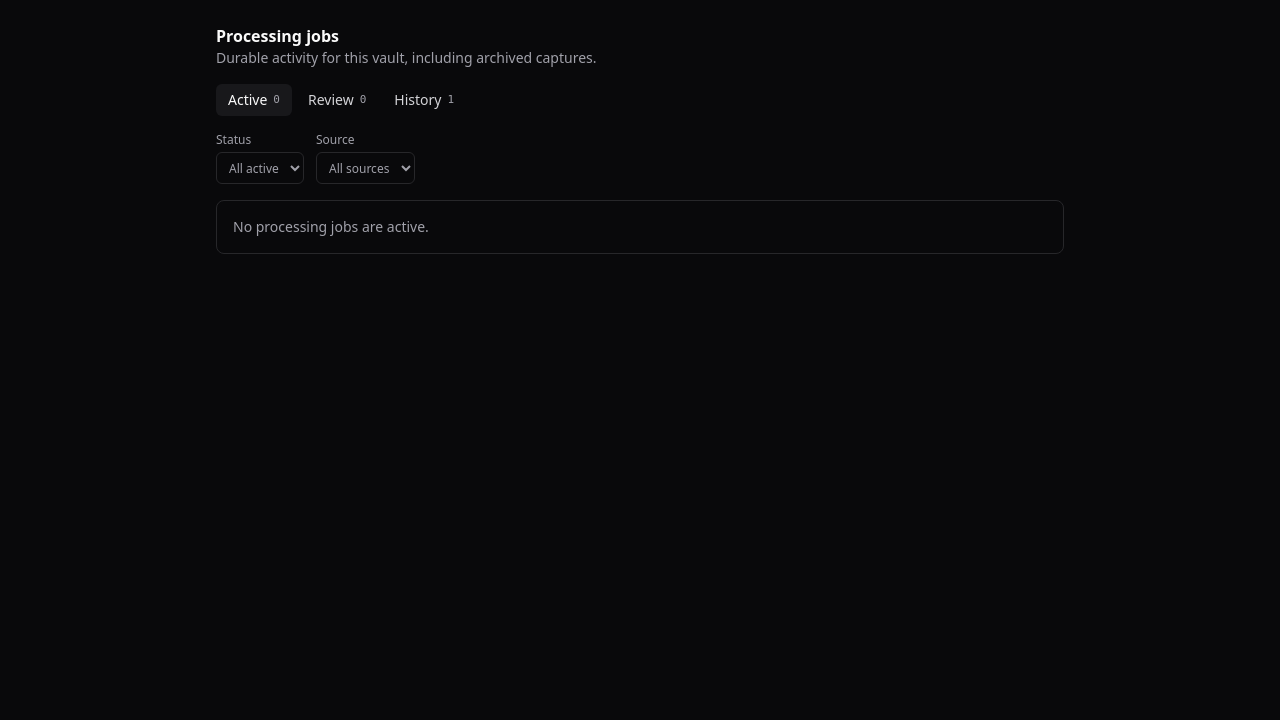
Test: JobHistory › confirms and applies the selected history-retention window
Click the tab "History 1" at (424, 100), box [382,84,466,116]
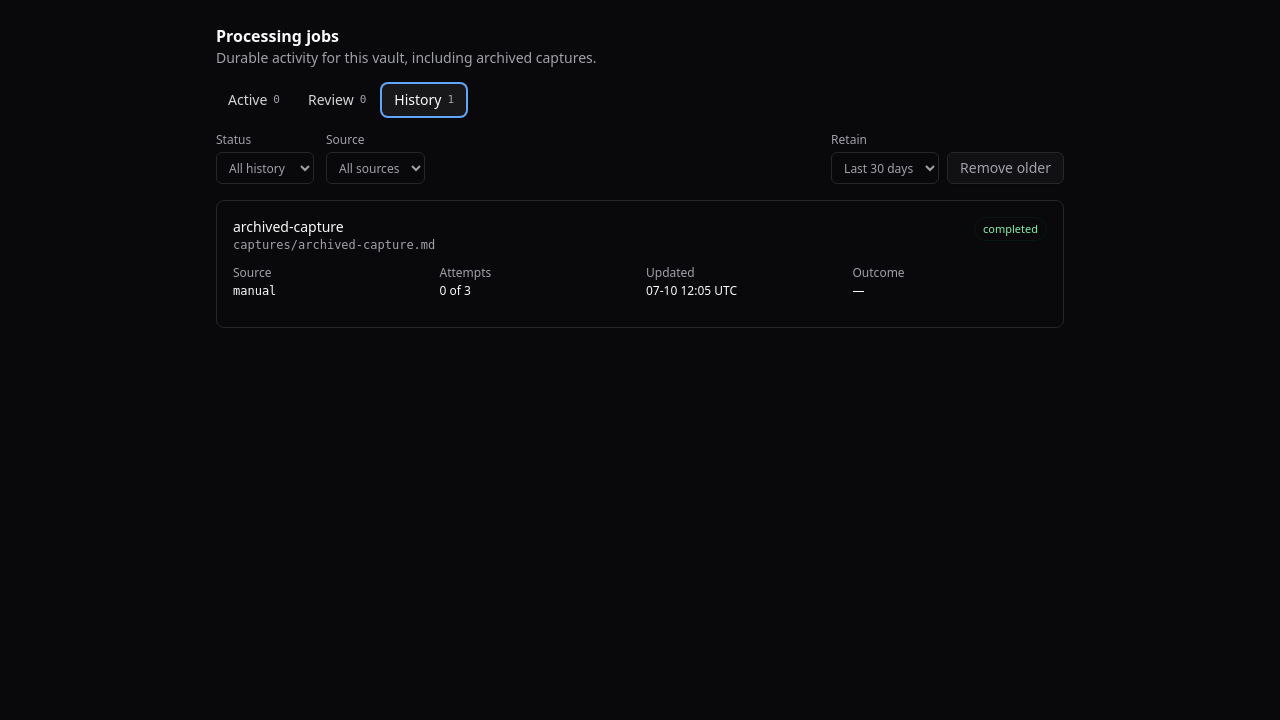
Select "Last 7 days" in the dropdown named "History retention window" at (885, 168), box [831,152,939,184]
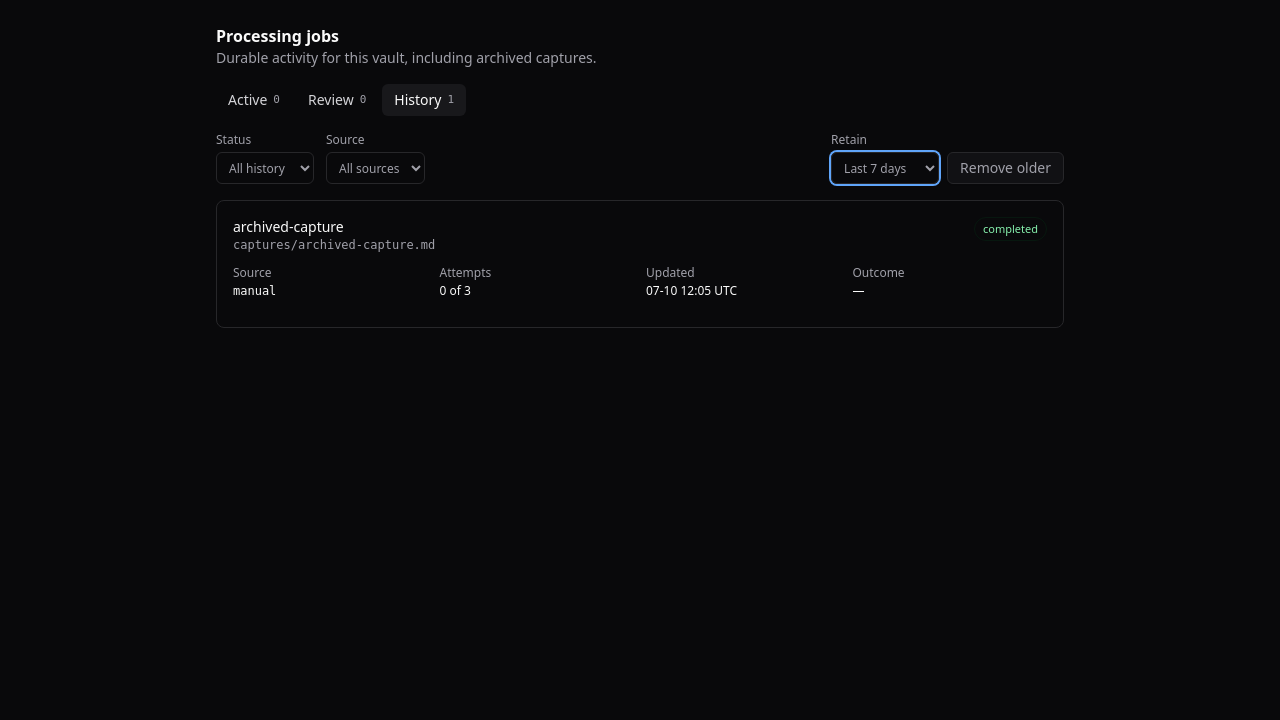
Click the button "Remove older" at (1006, 168), box [947,152,1064,184]
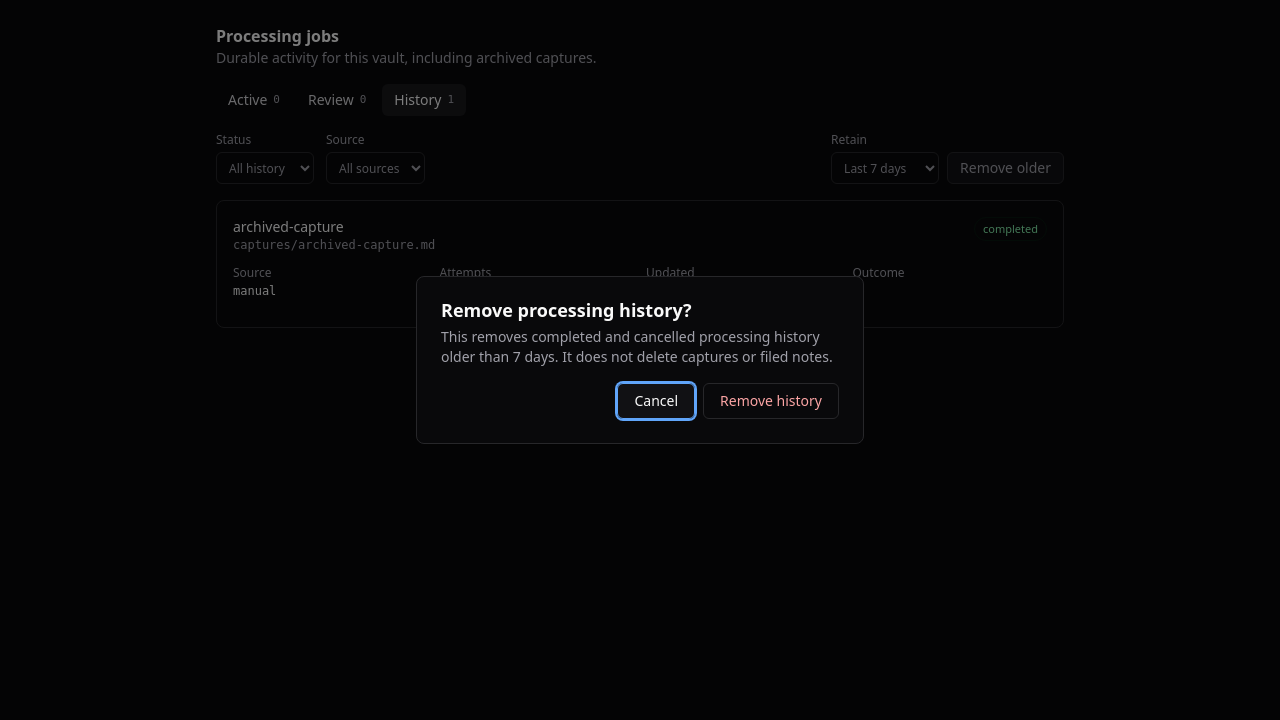
Expected: the dialog shows "older than 7 days", [441,327,833,366]
Click the button "Remove history" at (771, 401), box [703,383,839,419]
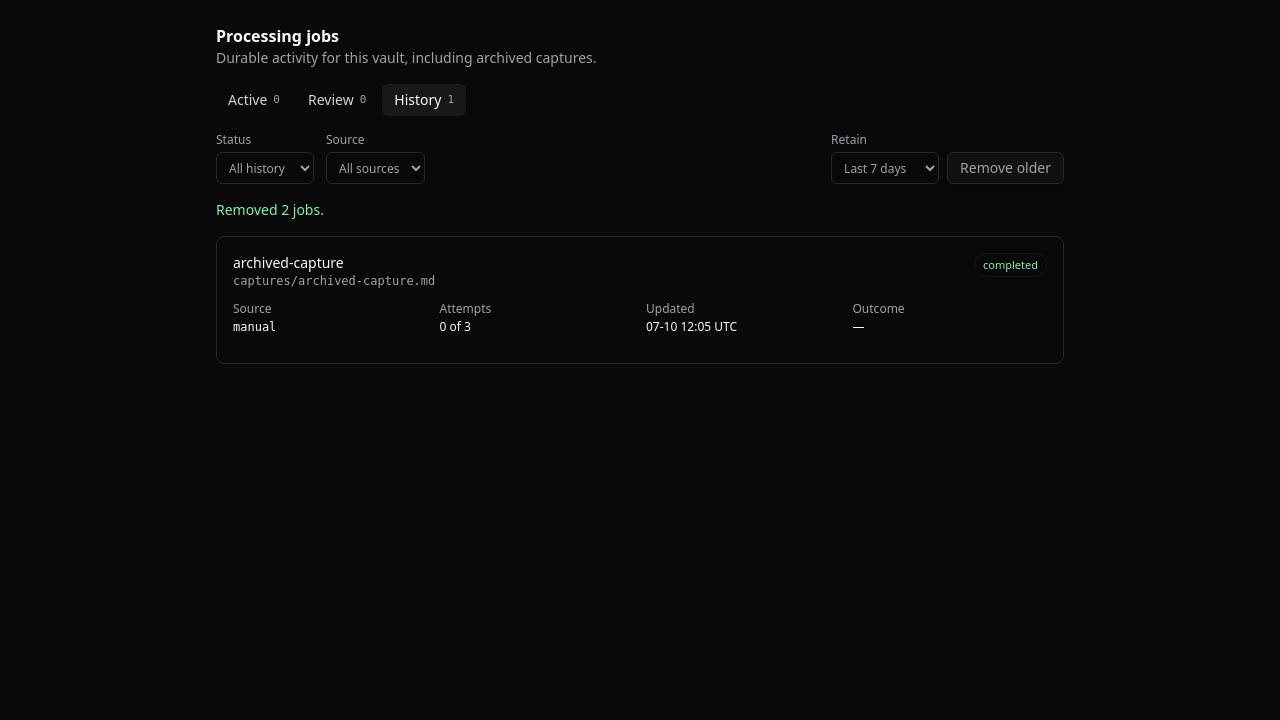
Expected: the text "Removed 2 jobs." is shown, [216,200,324,219]
